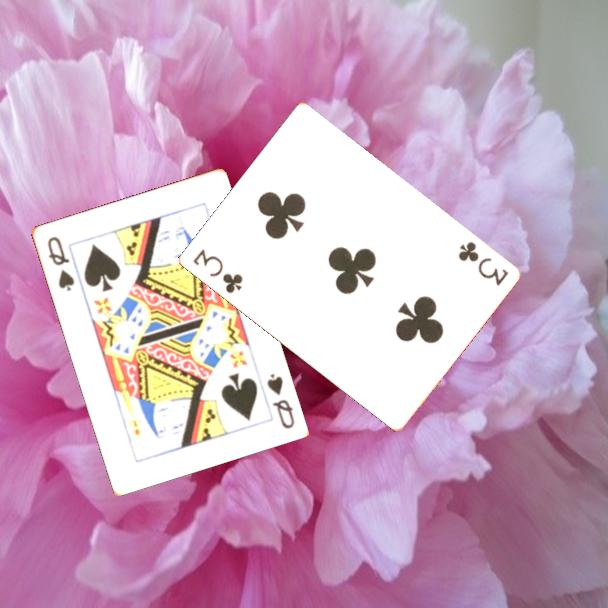c03: (189, 245, 245, 297), (454, 238, 511, 289)
s12: (43, 233, 77, 294), (263, 370, 297, 431)
